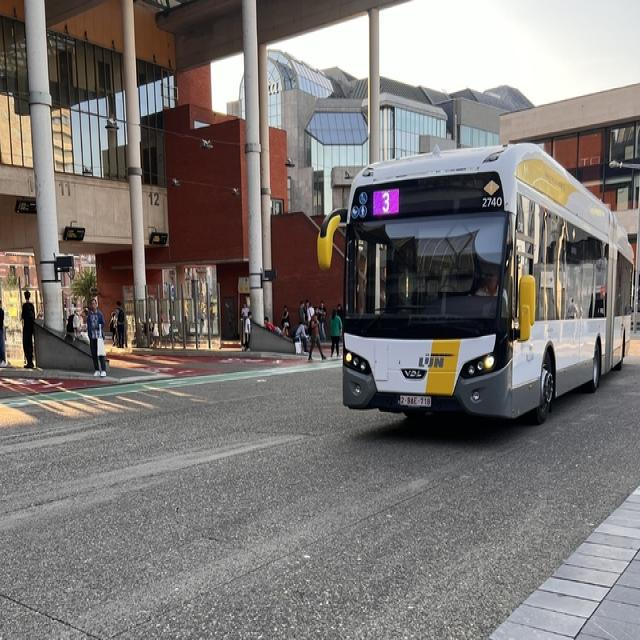bus-number: (373, 190, 398, 214)
